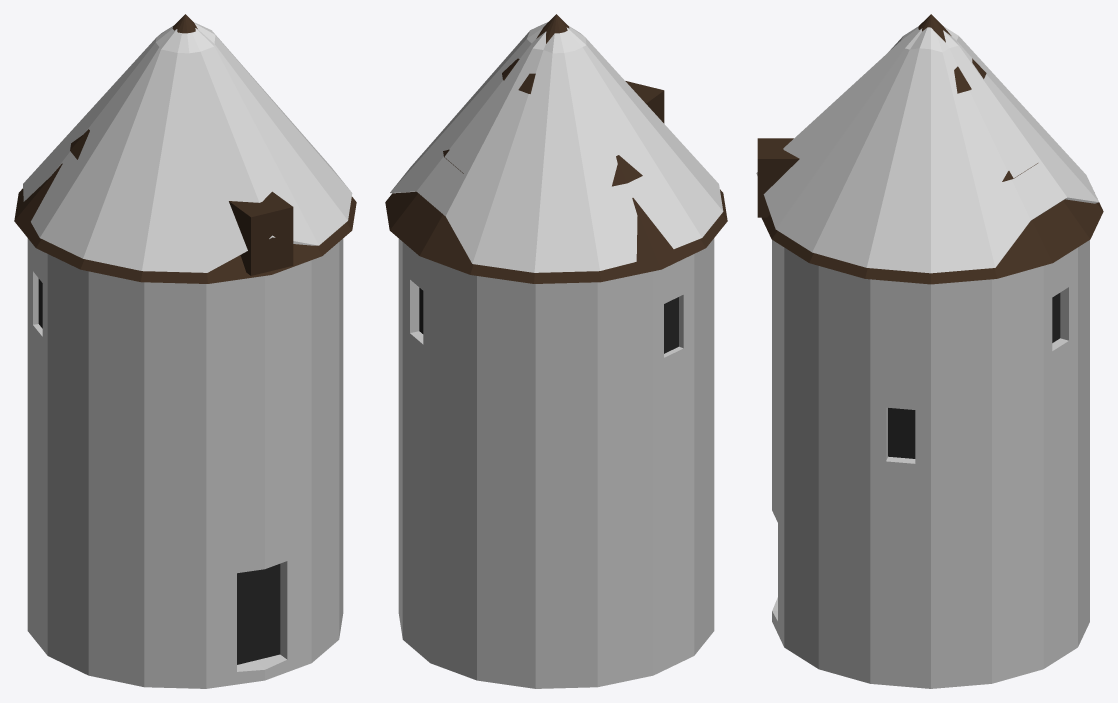
File: windmill_3_snow_mat.fbx
3 renders of one model, left to right at view 1: azimuth 30°, elevation 25°; view 2: azimuth 150°, elevation 25°; view 3: azimuth 270°, elevation 25°, orthographic.
Parts seen in each view (by area): view 1: windmill_3_snow_mat; view 2: windmill_3_snow_mat; view 3: windmill_3_snow_mat.
Boxes of the visible parts, x1=… form: windmill_3_snow_mat: x1=14, y1=14, x2=356, y2=688; windmill_3_snow_mat: x1=385, y1=14, x2=727, y2=688; windmill_3_snow_mat: x1=756, y1=14, x2=1103, y2=688.
Size of the model in its own units: 244 by 475 by 246.
